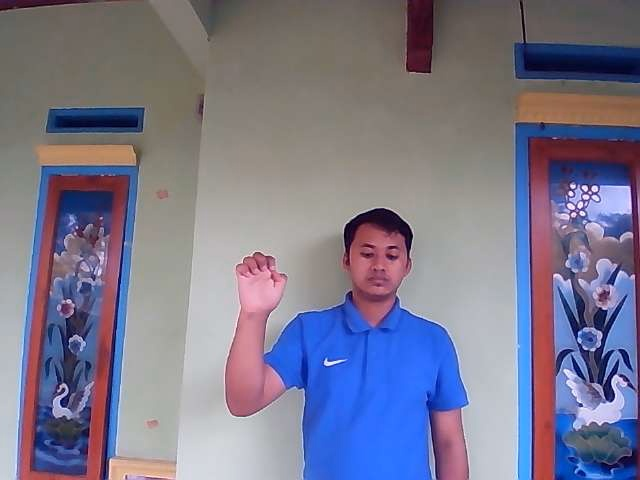E: (236, 252, 289, 315)
